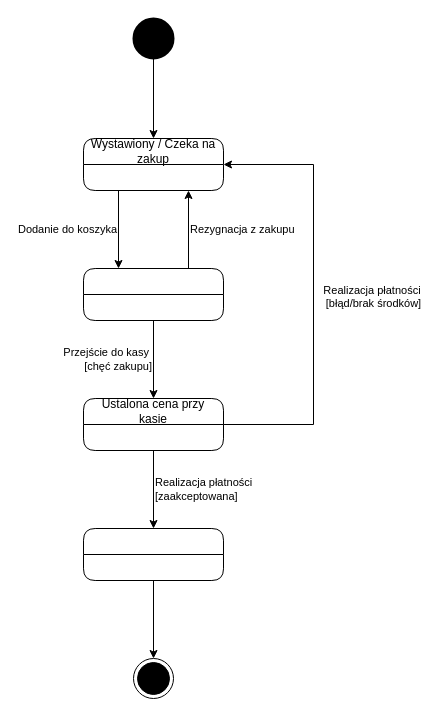
Image size: 440x716. Some labels were removed from this diagram. Here are the shapes that lost their labels. From the top down, the box of each, then its label:
(82, 268, 224, 320): Wybrany
(82, 528, 224, 580): Zakupiony
